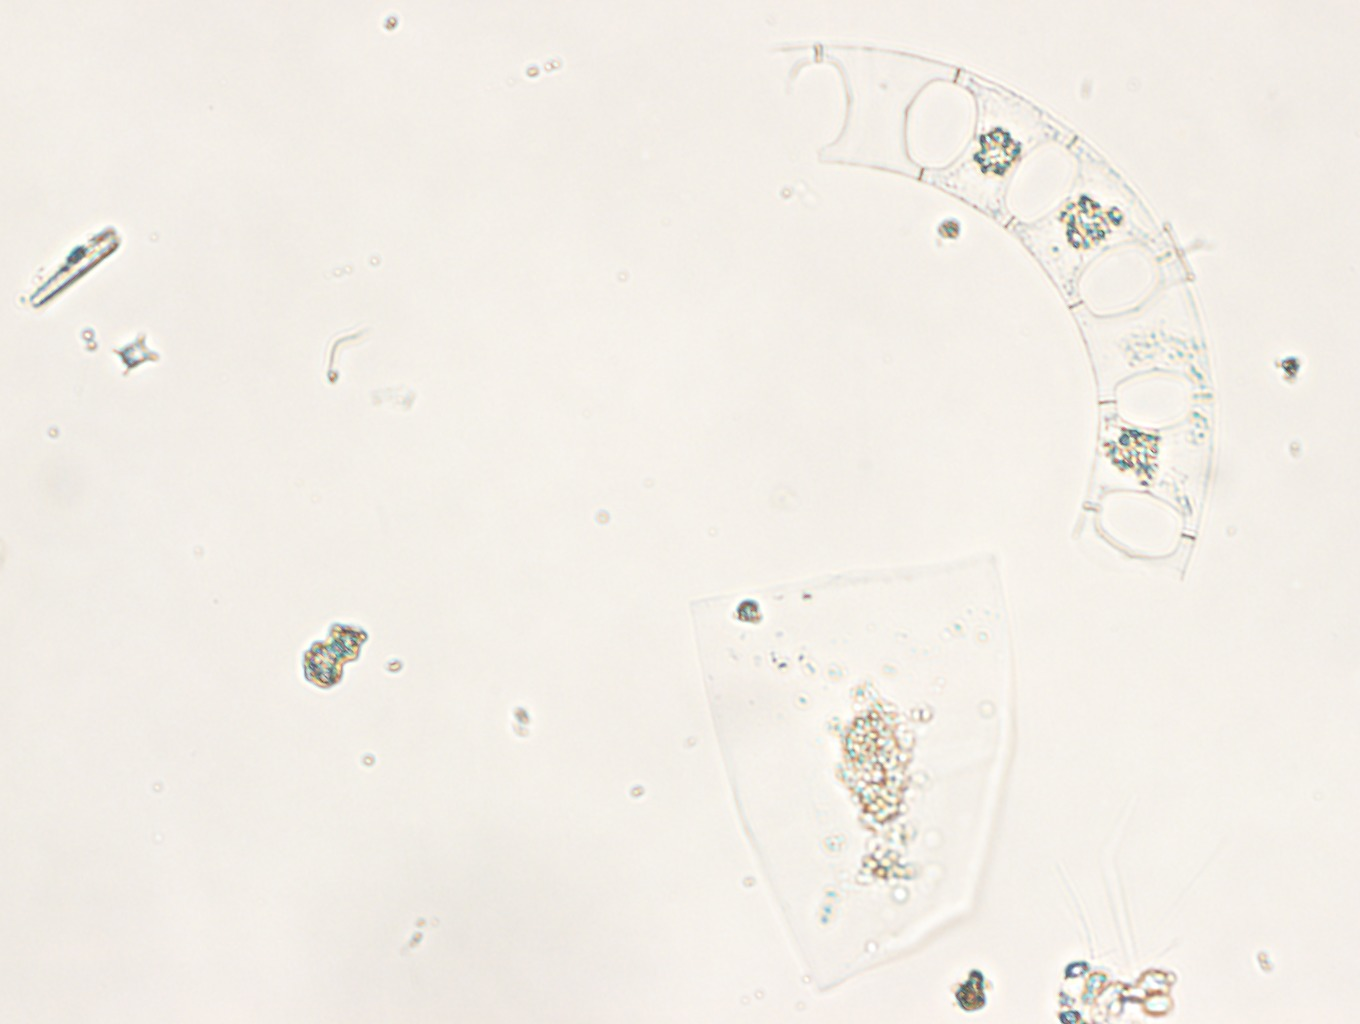eucampia: (773, 43, 1214, 592)
helicotheca: (689, 555, 1015, 997)
